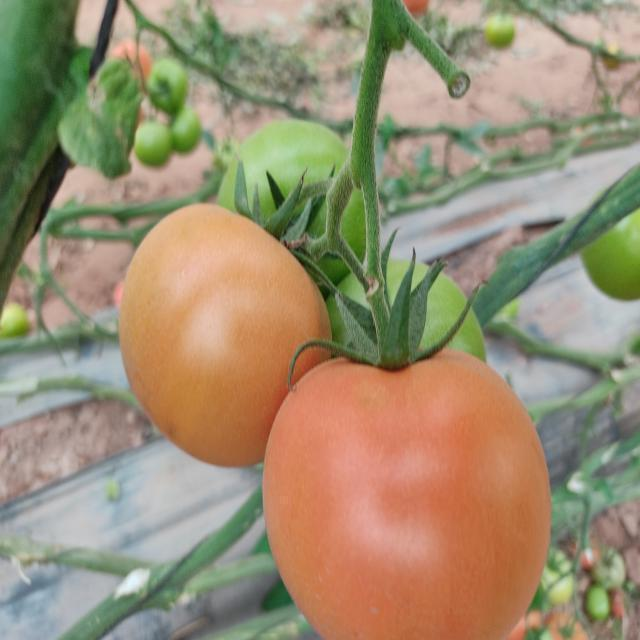Ripe Tomato: (260, 287, 554, 640), (123, 190, 334, 464), (110, 38, 151, 81), (550, 610, 590, 640), (516, 610, 551, 640), (400, 0, 434, 17), (608, 597, 630, 619)
Unripe Tomato: (220, 104, 384, 250), (335, 237, 483, 350), (575, 172, 640, 294), (542, 556, 578, 610), (144, 66, 187, 104), (594, 550, 628, 596), (482, 10, 520, 50), (135, 129, 171, 163), (172, 108, 202, 148), (2, 308, 32, 336), (586, 591, 609, 622)
